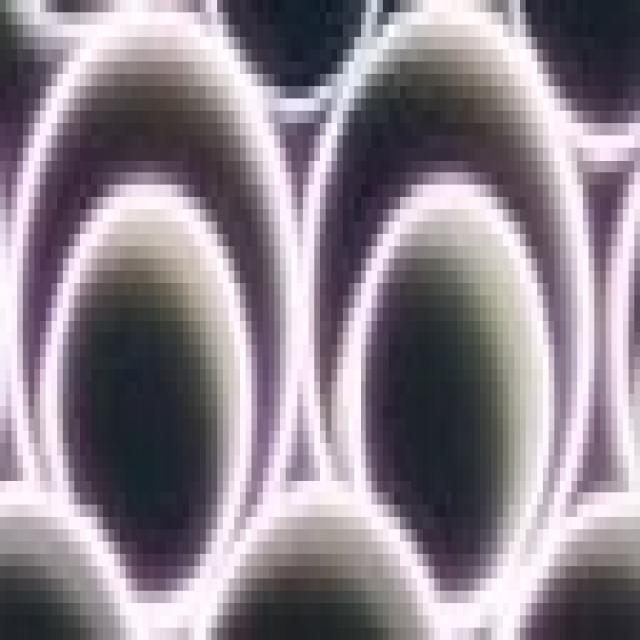pipe: (2, 3, 307, 562), (308, 20, 599, 604), (39, 150, 258, 586), (351, 167, 565, 579)
